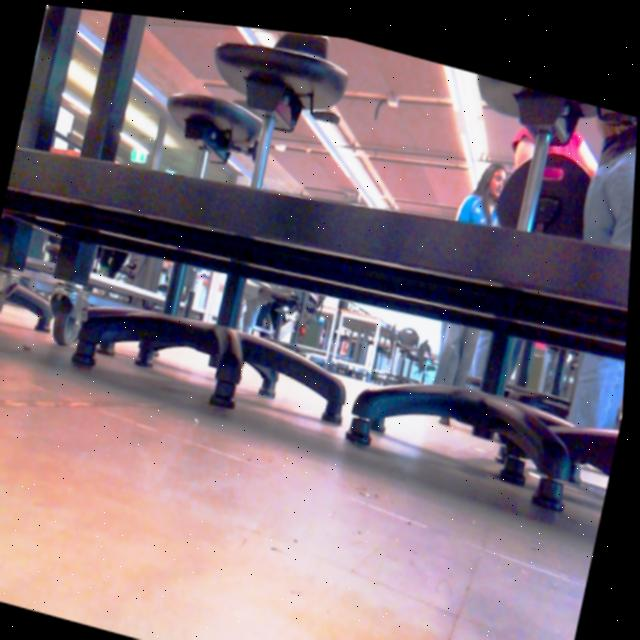redpringles: (530, 98, 638, 640)
